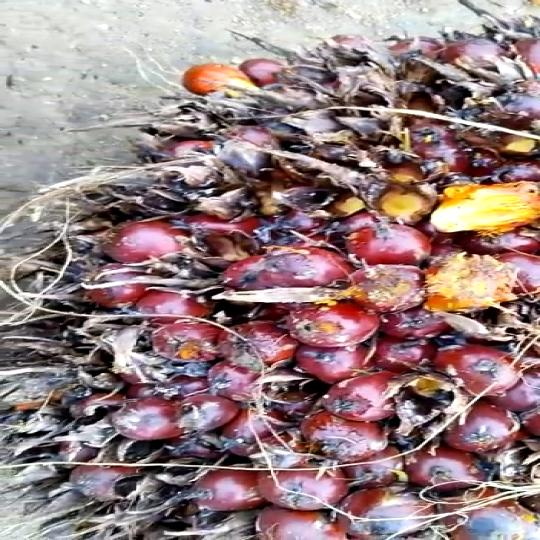masak: (44, 34, 540, 540)
